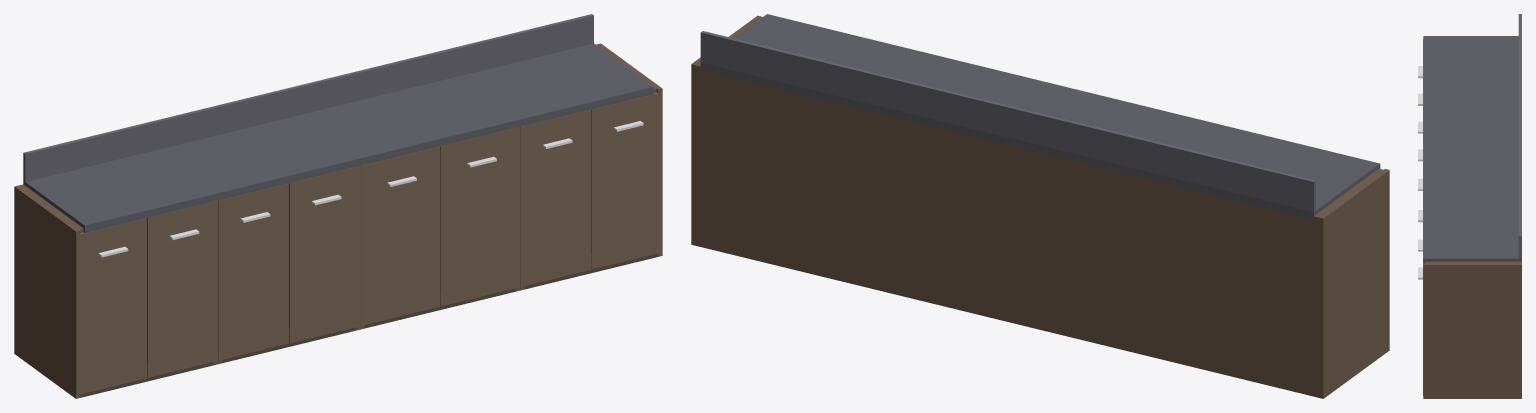
The picture shows the model from 3 angles, left to right: view 1: azimuth 30°, elevation 25°; view 2: azimuth 150°, elevation 25°; view 3: azimuth 270°, elevation 25°; orthographic projection. The views are drawn at different scales.
Parts seen in each view (by area): view 1: Countertop, Backsplash, Lower_Cabinet_Sink_Door_Left, Lower_Cabinet_Sink_Door_Right, Lower_Cabinet_2_Door_Right, Lower_Cabinet_4_Door_Left, Lower_Cabinet_4_Door_Right, Lower_Cabinet_1_Door_Left, Lower_Cabinet_1_Door_Right, Lower_Cabinet_2_Door_Left, Lower_Cabinet_1_Left_Side, Lower_Cabinet_Sink_Toe_Kick (+3 smaller); view 2: Lower_Cabinet_Sink_Back, Lower_Cabinet_2_Back, Lower_Cabinet_1_Back, Lower_Cabinet_4_Back, Countertop, Backsplash, Lower_Cabinet_1_Left_Side, Lower_Cabinet_Sink_Right_Side, Lower_Cabinet_4_Right_Side, Lower_Cabinet_4_Left_Side, Lower_Cabinet_1_Right_Side, Lower_Cabinet_2_Left_Side; view 3: Countertop, Lower_Cabinet_4_Right_Side, Backsplash, Lower_Cabinet_4_Back, Lower_Cabinet_4_Top, Lower_Cabinet_4_Door_Right.
Part boxes in pixels (bbox=[...]): Countertop: bbox=[23, 43, 653, 232]; Backsplash: bbox=[23, 14, 593, 181]; Lower_Cabinet_Sink_Door_Left: bbox=[361, 146, 440, 325]; Lower_Cabinet_Sink_Door_Right: bbox=[440, 127, 519, 306]; Lower_Cabinet_2_Door_Right: bbox=[289, 166, 360, 343]; Lower_Cabinet_4_Door_Left: bbox=[520, 109, 591, 286]; Lower_Cabinet_4_Door_Right: bbox=[591, 92, 662, 269]; Lower_Cabinet_1_Door_Left: bbox=[76, 218, 146, 395]; Lower_Cabinet_1_Door_Right: bbox=[147, 200, 217, 377]; Lower_Cabinet_2_Door_Left: bbox=[218, 183, 288, 360]; Lower_Cabinet_1_Left_Side: bbox=[14, 185, 80, 398]; Lower_Cabinet_Sink_Toe_Kick: bbox=[365, 288, 515, 328]; Lower_Cabinet_Sink_Back: bbox=[845, 107, 1016, 323]; Lower_Cabinet_2_Back: bbox=[1017, 144, 1170, 361]; Lower_Cabinet_1_Back: bbox=[1170, 183, 1326, 398]; Lower_Cabinet_4_Back: bbox=[691, 62, 843, 280]; Countertop: bbox=[700, 14, 1380, 219]; Backsplash: bbox=[700, 31, 1315, 211]; Lower_Cabinet_1_Left_Side: bbox=[1318, 169, 1389, 398]; Lower_Cabinet_Sink_Right_Side: bbox=[844, 101, 849, 282]; Lower_Cabinet_4_Right_Side: bbox=[691, 15, 762, 245]; Lower_Cabinet_4_Left_Side: bbox=[839, 104, 844, 281]; Lower_Cabinet_1_Right_Side: bbox=[1170, 181, 1174, 362]; Lower_Cabinet_2_Left_Side: bbox=[1165, 180, 1170, 361]; Countertop: bbox=[1423, 36, 1521, 263]; Lower_Cabinet_4_Right_Side: bbox=[1423, 263, 1521, 398]; Backsplash: bbox=[1518, 14, 1521, 258]; Lower_Cabinet_4_Back: bbox=[1518, 261, 1521, 398]; Lower_Cabinet_4_Top: bbox=[1425, 261, 1519, 263]; Lower_Cabinet_4_Door_Right: bbox=[1423, 240, 1423, 395].
Size of the model in its own units: 3.3 by 1.07 by 0.6325.
